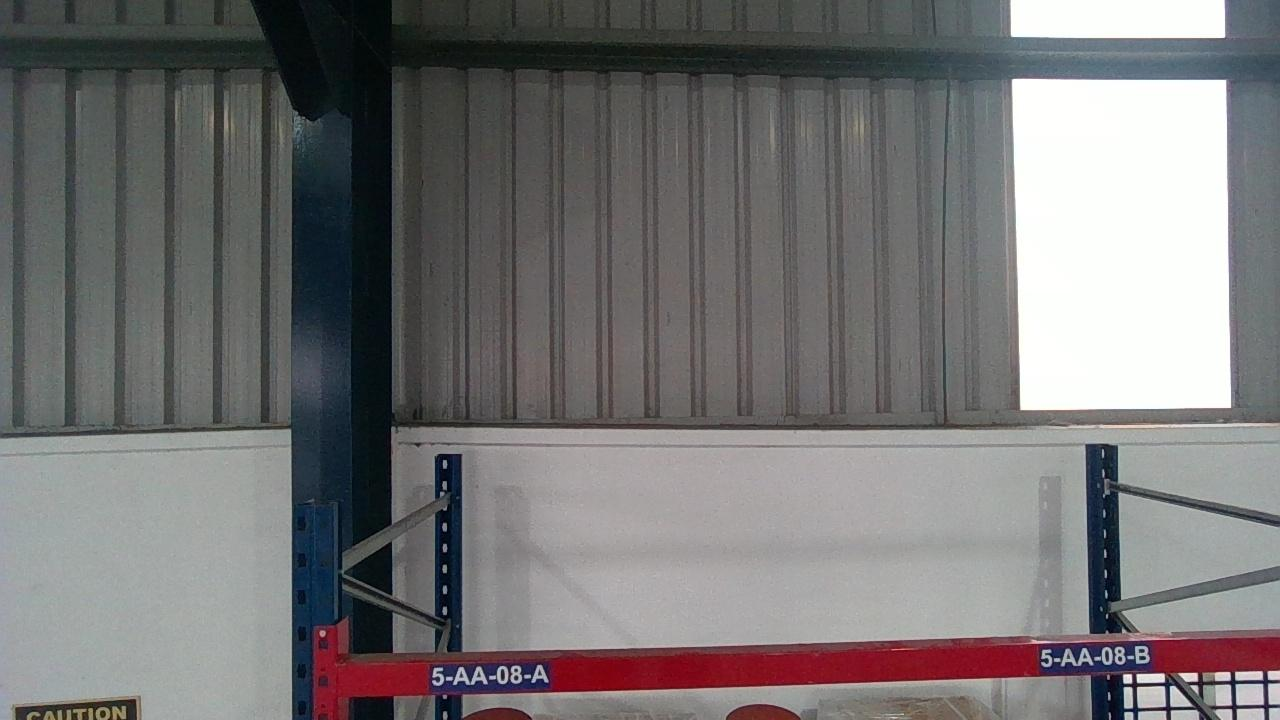h_rack: (343, 640, 1277, 698)
